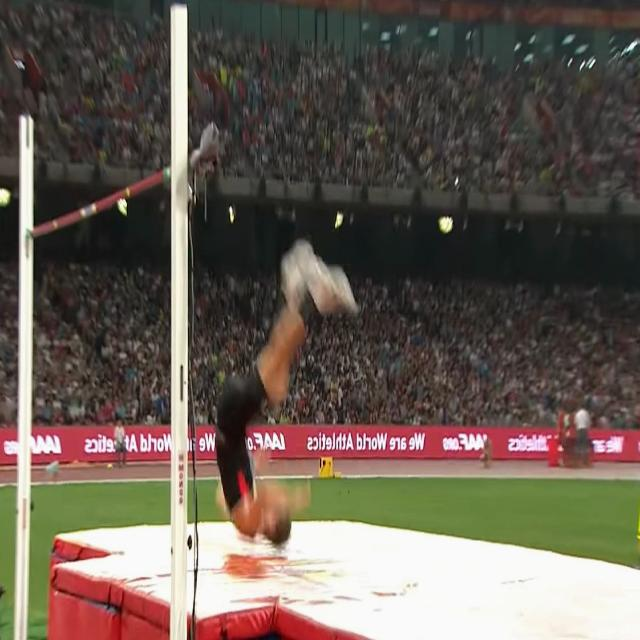land: (215, 244, 359, 542)
